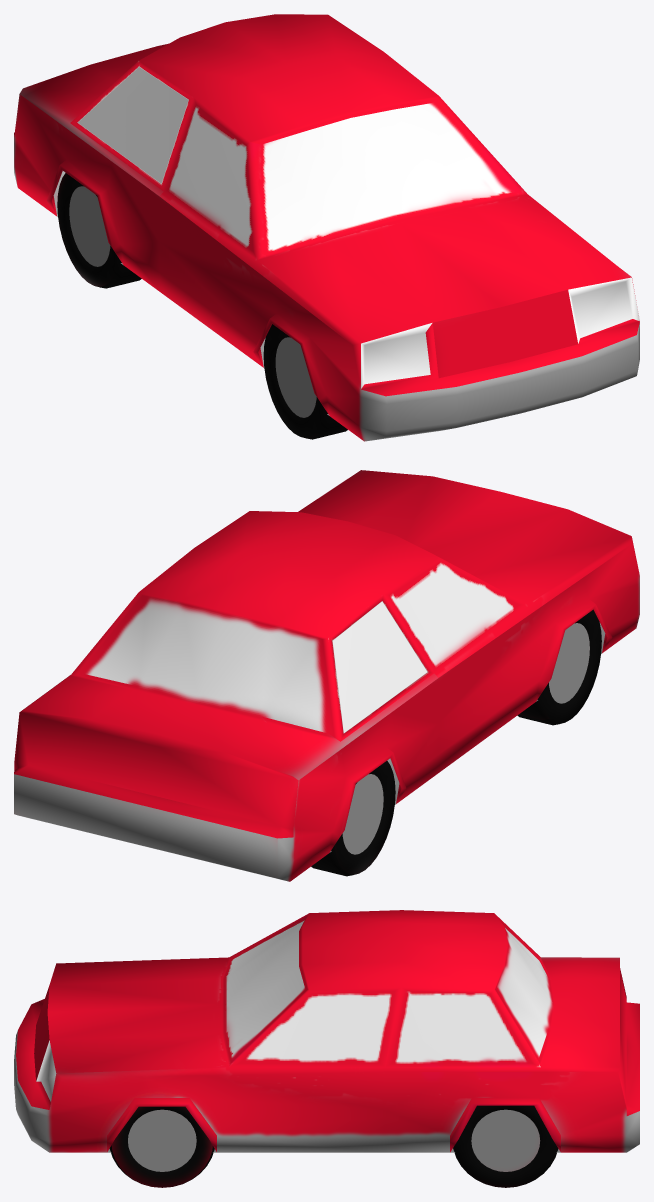
Rendered from Car.obj.
3 views of the same model, one above another, from view 1: azimuth 30°, elevation 25°; view 2: azimuth 150°, elevation 25°; view 3: azimuth 270°, elevation 25° (orthographic). The views are drawn at different scales.
Parts seen in each view (by area): view 1: Car_Cube; view 2: Car_Cube; view 3: Car_Cube.
Part boxes in pixels (x1,y1,x2,y2): Car_Cube: (14, 14, 639, 441); Car_Cube: (14, 470, 639, 881); Car_Cube: (14, 910, 639, 1187).
Size of the model in its own units: 0.605 by 0.458 by 1.34.
